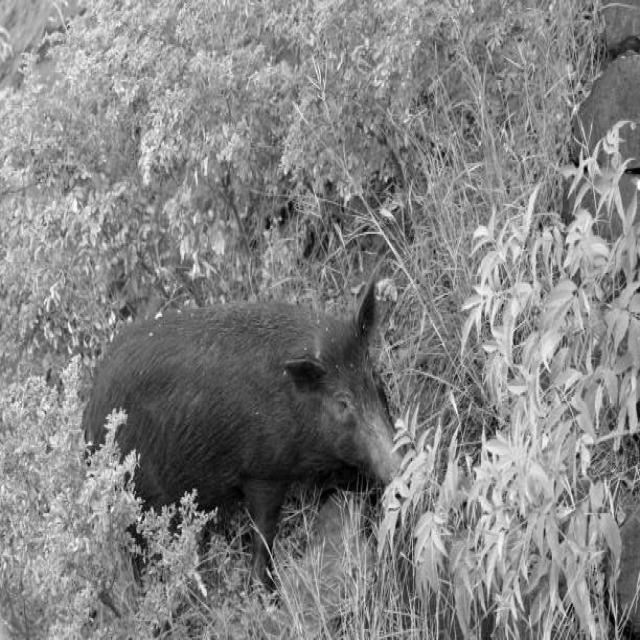boar: (85, 279, 402, 588)
